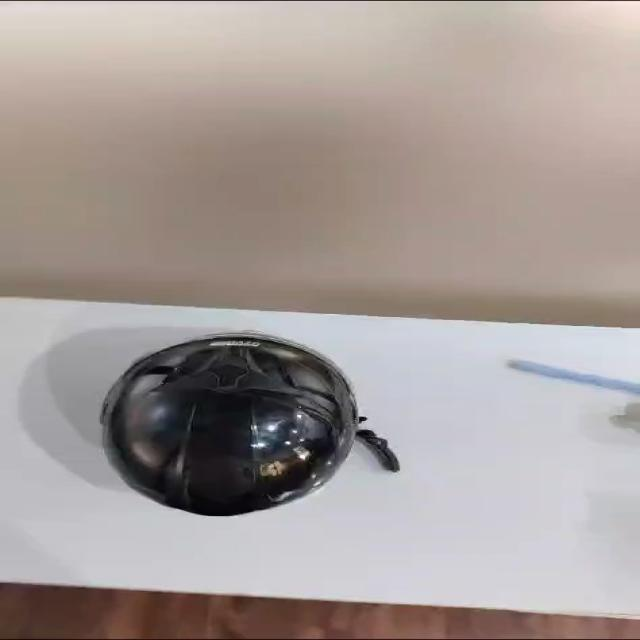helmet: (77, 327, 386, 529)
